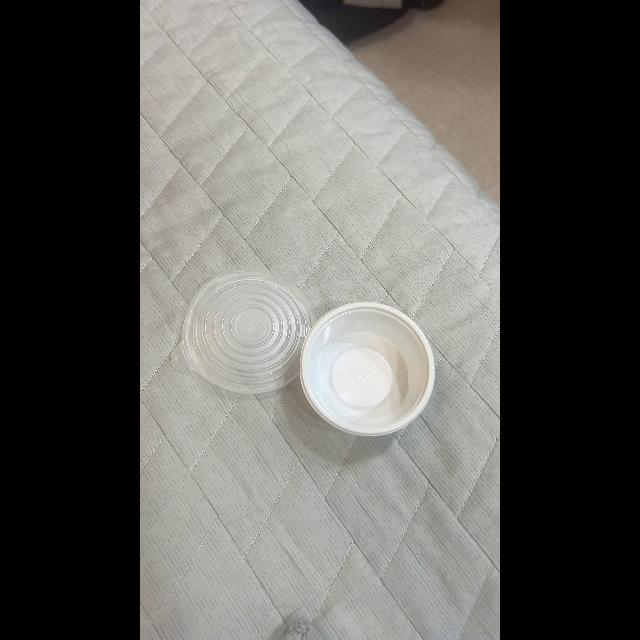clean: (301, 302, 435, 434), (184, 272, 318, 392)
